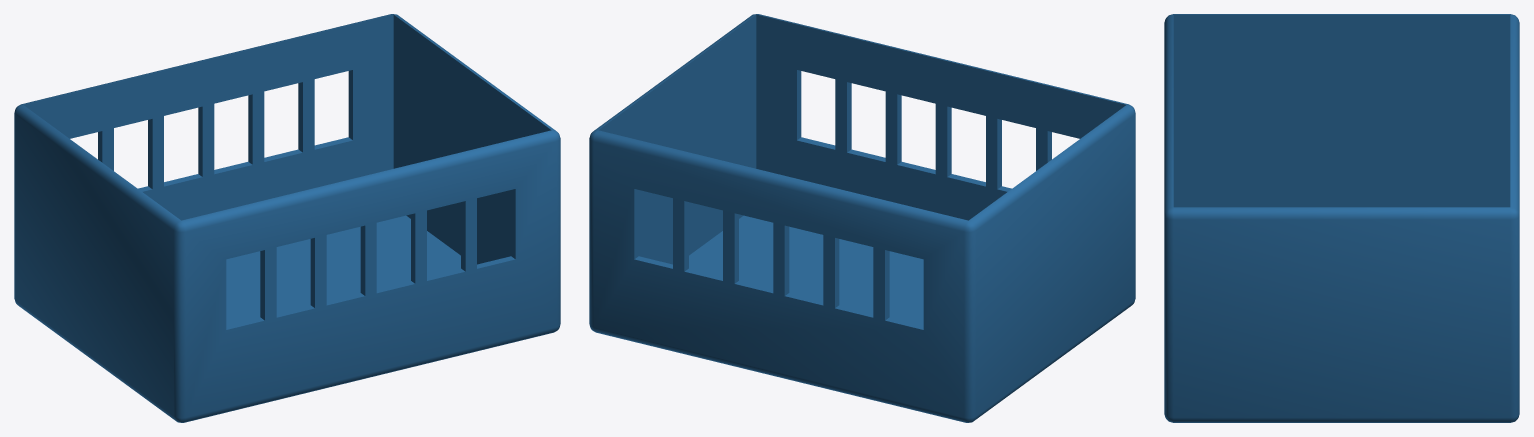
The model's file is harvest_crate.glb.
3 views of the same model, side by side, from view 1: azimuth 30°, elevation 25°; view 2: azimuth 150°, elevation 25°; view 3: azimuth 270°, elevation 25° (orthographic). The views are drawn at different scales.
Parts seen in each view (by area): view 1: crate; view 2: crate; view 3: crate.
Boxes of the visible parts, <box> form: crate: <box>14,14,560,422</box>; crate: <box>589,14,1135,422</box>; crate: <box>1164,14,1519,422</box>.
Size of the model in its own units: 0.4 by 0.2 by 0.3.
